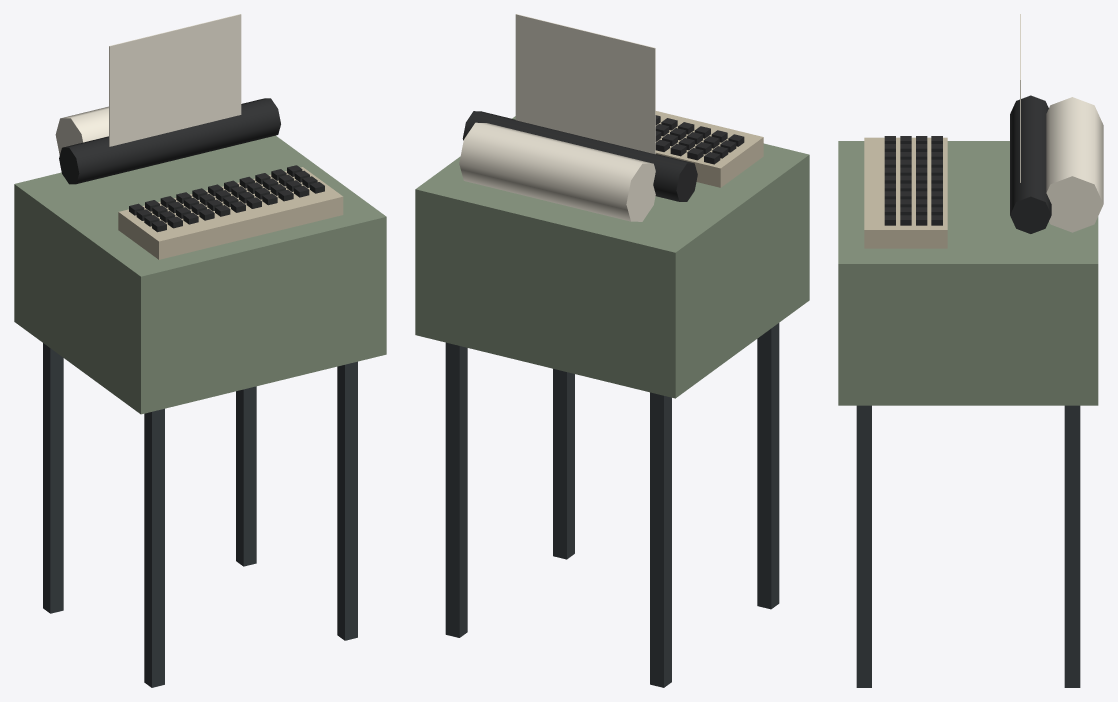
File: teletype.glb
The picture shows the model from 3 angles, left to right: view 1: azimuth 30°, elevation 25°; view 2: azimuth 150°, elevation 25°; view 3: azimuth 270°, elevation 25°; orthographic projection. The views are drawn at different scales.
Parts seen in each view (by area): view 1: kit-teletype; view 2: kit-teletype; view 3: kit-teletype.
Part boxes in pixels (x1=…): kit-teletype: x1=14, y1=14, x2=386, y2=687; kit-teletype: x1=415, y1=14, x2=809, y2=687; kit-teletype: x1=838, y1=14, x2=1103, y2=687.
Bounding box in the file's own units: 0.56 × 1.25 × 0.51.
